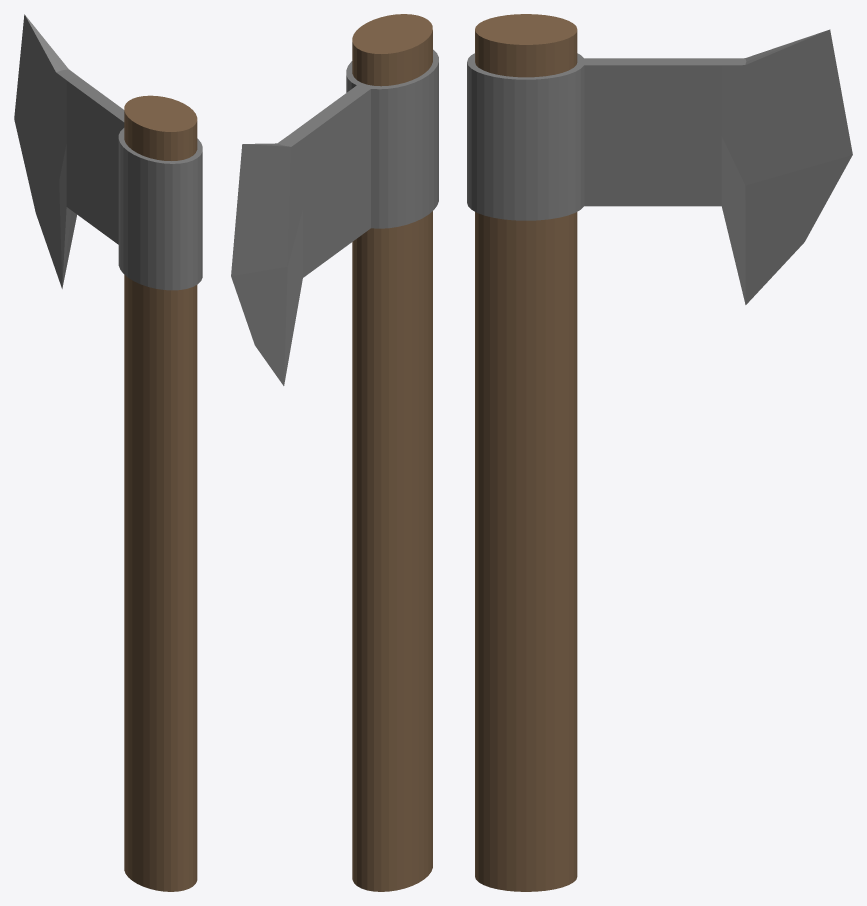
File: Axe.glb
The picture shows the model from 3 angles, left to right: view 1: azimuth 30°, elevation 25°; view 2: azimuth 150°, elevation 25°; view 3: azimuth 270°, elevation 25°; orthographic projection. The views are drawn at different scales.
Parts seen in each view (by area): view 1: Cylinder; view 2: Cylinder; view 3: Cylinder.
Boxes of the visible parts, left/top/right/bottom form: Cylinder: left=14, top=14, right=202, bottom=891; Cylinder: left=231, top=14, right=438, bottom=891; Cylinder: left=467, top=14, right=852, bottom=891.
Bounding box in the file's own units: 0.1812 × 2 × 0.8257.
